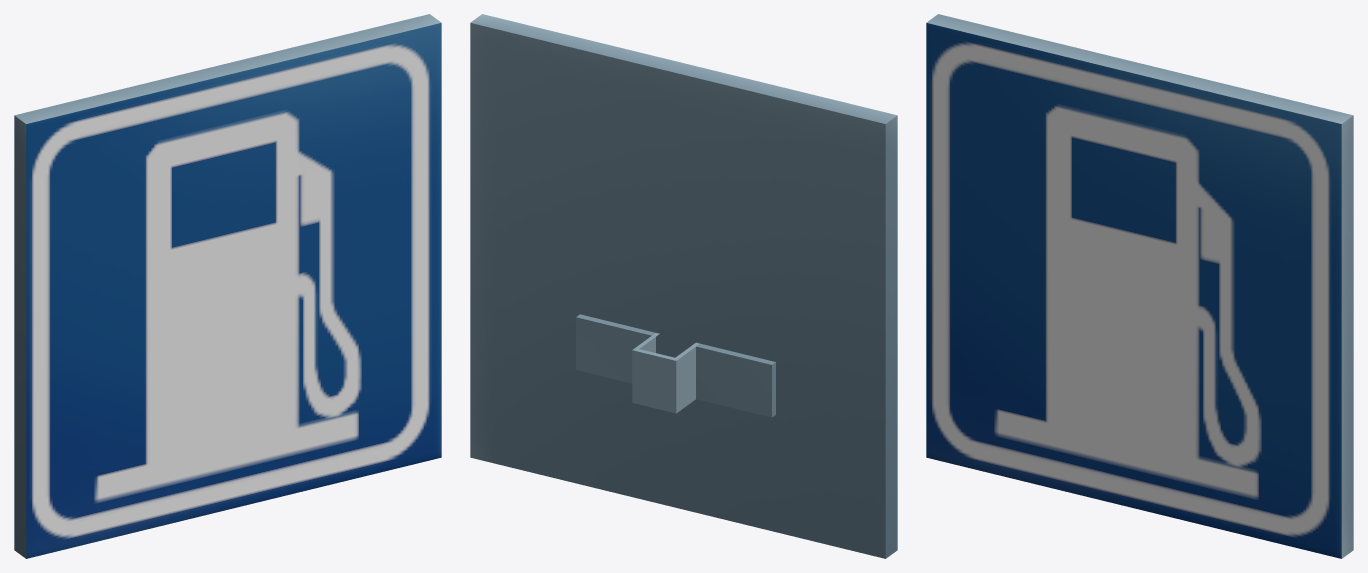
The model's file is Sign28.fbx.
3 views of the same model, side by side, from view 1: azimuth 30°, elevation 25°; view 2: azimuth 150°, elevation 25°; view 3: azimuth 330°, elevation 25° (orthographic).
Visible parts, largest first — view 1: Sign28; view 2: Sign28; view 3: Sign28.
Boxes of the visible parts, box(x1,y1,x2,y2) form: Sign28: box(14, 14, 441, 558); Sign28: box(470, 14, 897, 558); Sign28: box(926, 14, 1353, 558).
Size of the model in its own units: 1 by 0.1489 by 1.
